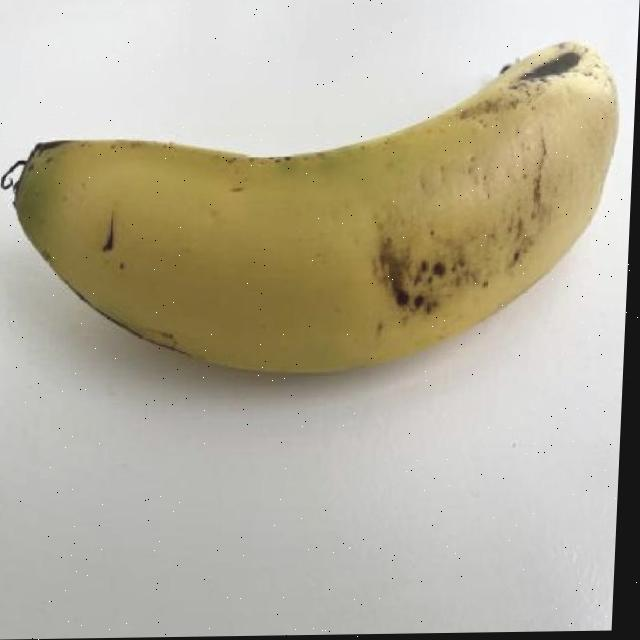banana: (0, 34, 625, 388)
